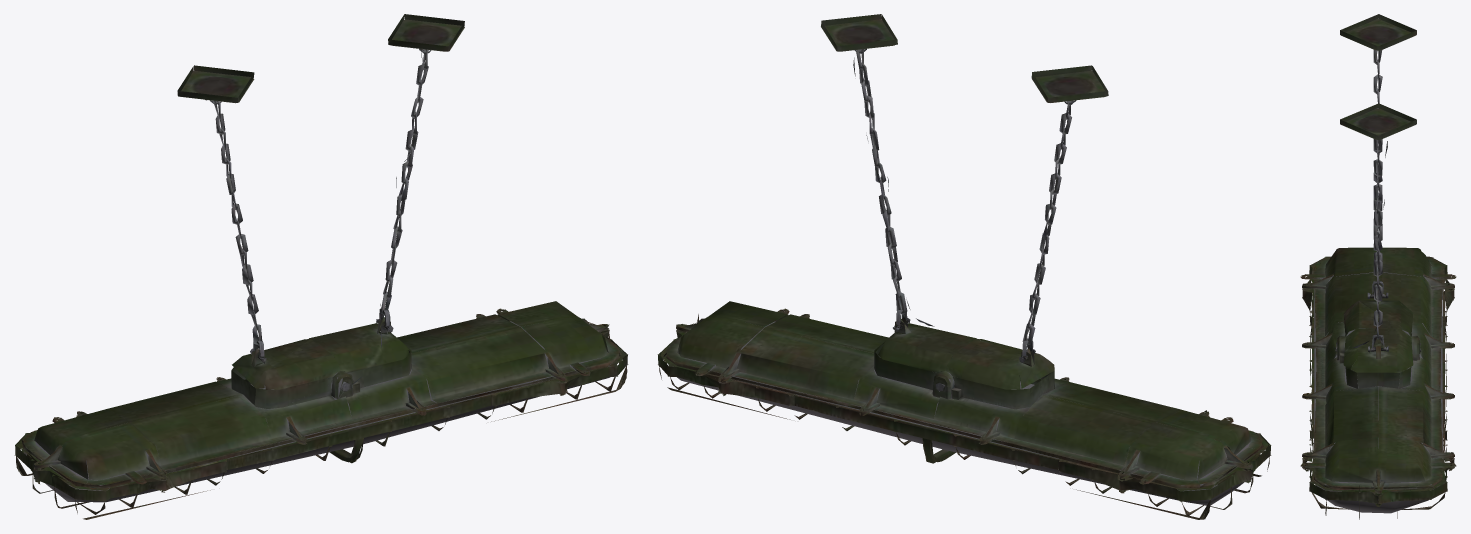
The model's file is ph_caged_hanging_light.glb.
3 renders of one model, left to right at view 1: azimuth 30°, elevation 25°; view 2: azimuth 150°, elevation 25°; view 3: azimuth 270°, elevation 25°, orthographic. The views are drawn at different scales.
Parts seen in each view (by area): view 1: caged_hanging_light; view 2: caged_hanging_light; view 3: caged_hanging_light.
Boxes of the visible parts, x1=… form: caged_hanging_light: x1=14, y1=14, x2=628, y2=519; caged_hanging_light: x1=657, y1=14, x2=1271, y2=519; caged_hanging_light: x1=1300, y1=14, x2=1456, y2=519.
Bounding box in the file's own units: 1.17 × 0.7501 × 0.3147.
1 material, 1 textured.
